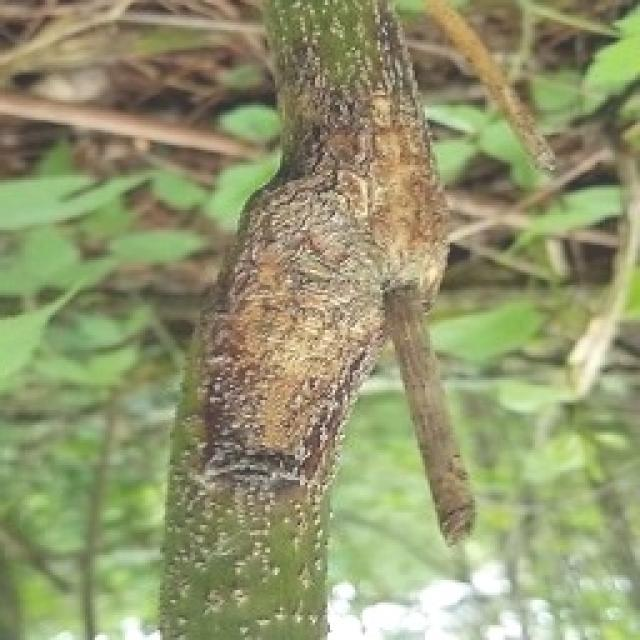Golden_canker: (140, 0, 558, 638)
